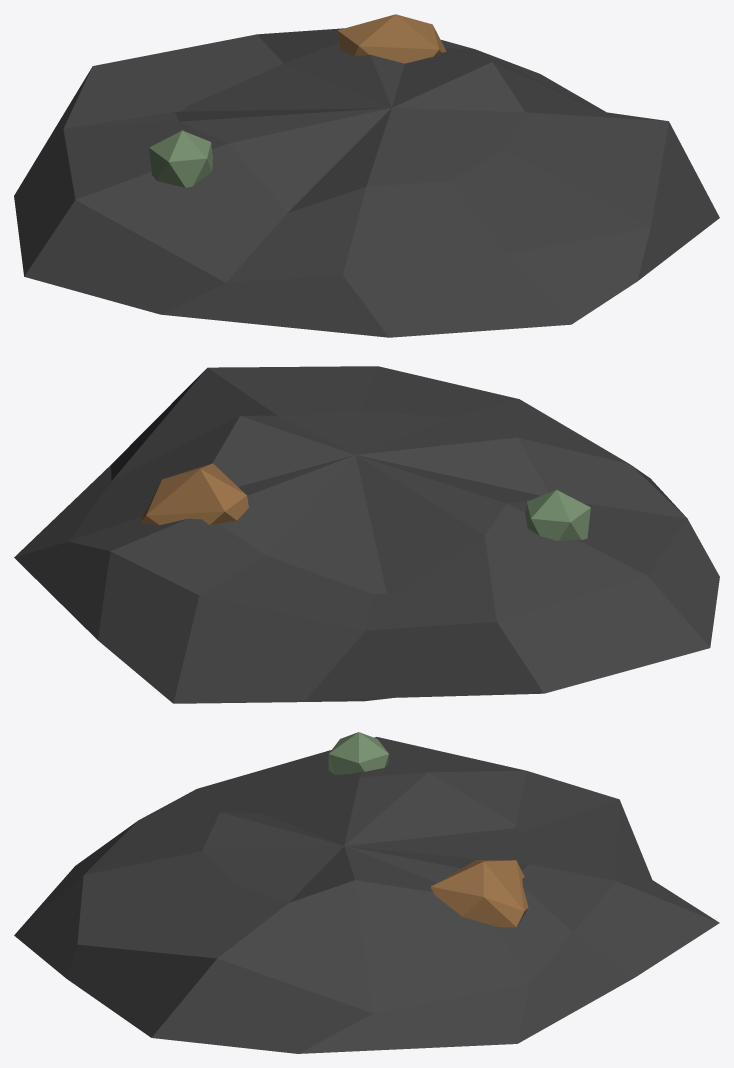
The model's file is Trash.fbx.
The picture shows the model from 3 angles, top to bottom: view 1: azimuth 30°, elevation 25°; view 2: azimuth 150°, elevation 25°; view 3: azimuth 270°, elevation 25°; orthographic projection. The views are drawn at different scales.
Parts seen in each view (by area): view 1: Trash; view 2: Trash; view 3: Trash.
Boxes of the visible parts, bbox=[...] form: Trash: bbox=[14, 14, 719, 337]; Trash: bbox=[14, 366, 719, 703]; Trash: bbox=[14, 732, 719, 1053].
Size of the model in its own units: 206 by 215 by 39.67.
